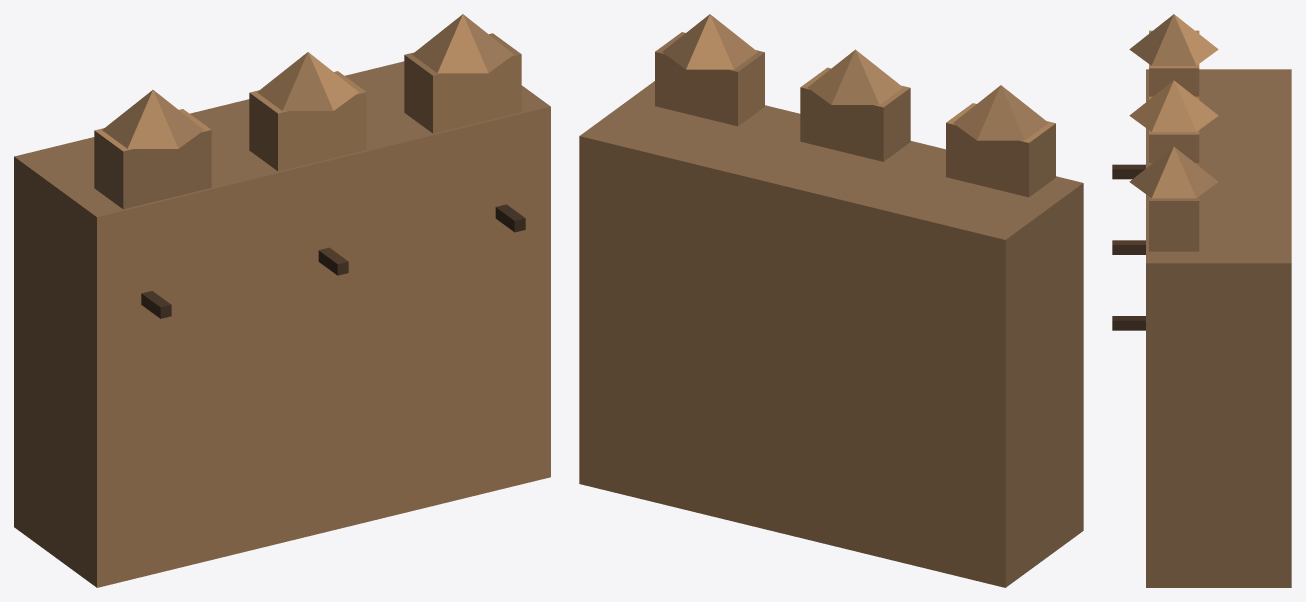
File: mud_wall.glb
The picture shows the model from 3 angles, left to right: view 1: azimuth 30°, elevation 25°; view 2: azimuth 150°, elevation 25°; view 3: azimuth 270°, elevation 25°; orthographic projection. The views are drawn at different scales.
Visible parts, largest first — view 1: mud_wall; view 2: mud_wall; view 3: mud_wall.
Boxes of the visible parts, x1,y1,x2,y2 form: mud_wall: (14, 14, 550, 587); mud_wall: (579, 14, 1083, 587); mud_wall: (1112, 14, 1291, 587).
Size of the model in its own units: 4.1 by 4.05 by 1.6.
1 material, 1 textured.
